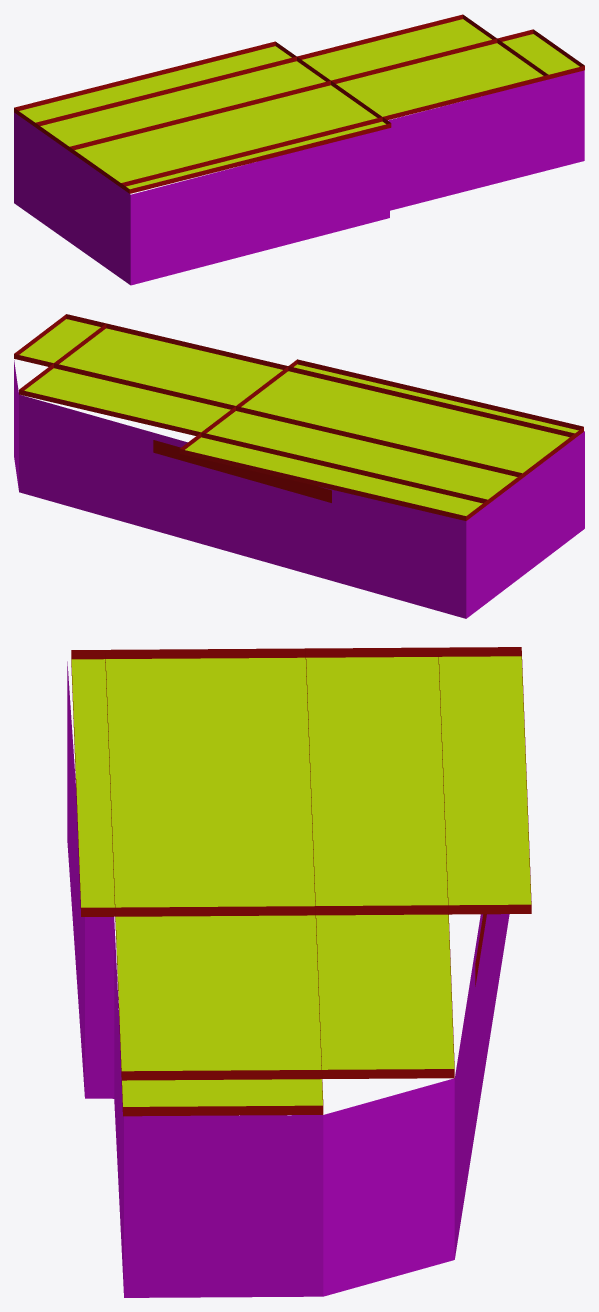
The model's file is bgj_224.glb.
The picture shows the model from 3 angles, top to bottom: view 1: azimuth 30°, elevation 25°; view 2: azimuth 150°, elevation 25°; view 3: azimuth 270°, elevation 25°; orthographic projection. The views are drawn at different scales.
Visible parts, largest first — view 1: bgj_224; view 2: bgj_224; view 3: bgj_224.
Part boxes in pixels (bbox=[...]): bgj_224: bbox=[14, 14, 584, 285]; bgj_224: bbox=[14, 314, 584, 618]; bgj_224: bbox=[67, 647, 531, 1297].
Size of the model in its own units: 37.2 by 7.2 by 15.86.
